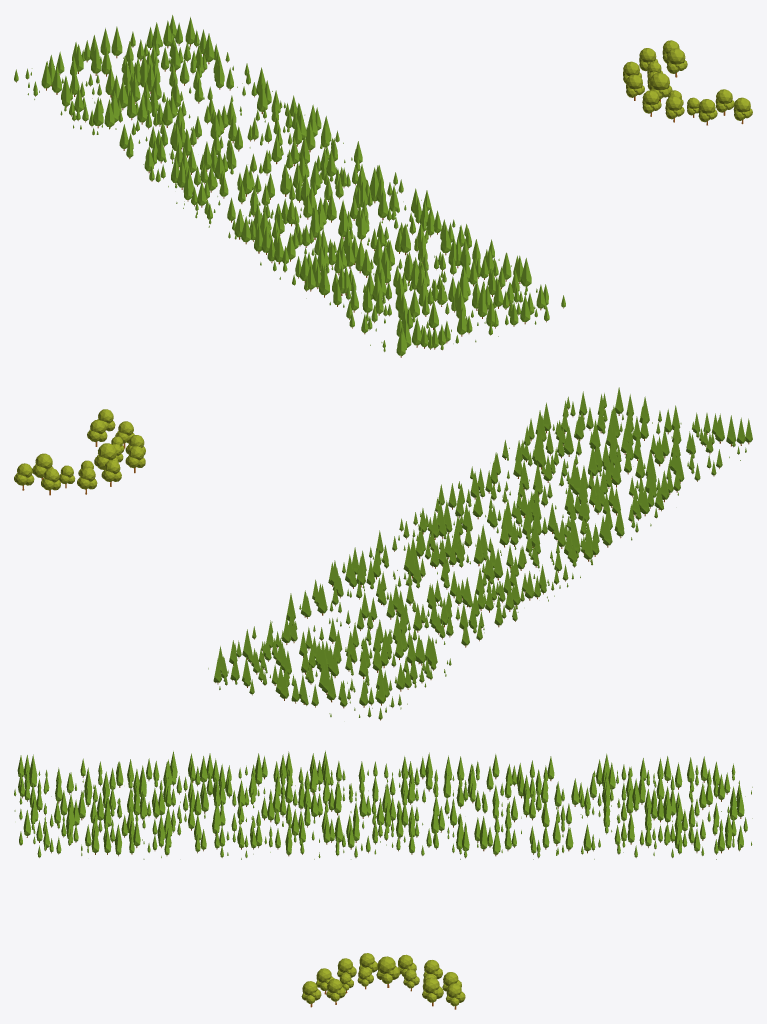
File: PopstyleRe_Trees.glb
3 renders of one model, top to bottom at view 1: azimuth 30°, elevation 25°; view 2: azimuth 150°, elevation 25°; view 3: azimuth 270°, elevation 25°, orthographic. The views are drawn at different scales.
Visible parts, largest first — view 1: no part large enough to name; view 2: no part large enough to name; view 3: Tree-lime-bark.002.
Part boxes in pixels (box(x1,y1,x2,y2)): Tree-lime-bark.002: box(376, 956, 400, 983).
Size of the model in its own units: 415 by 24.84 by 540.
